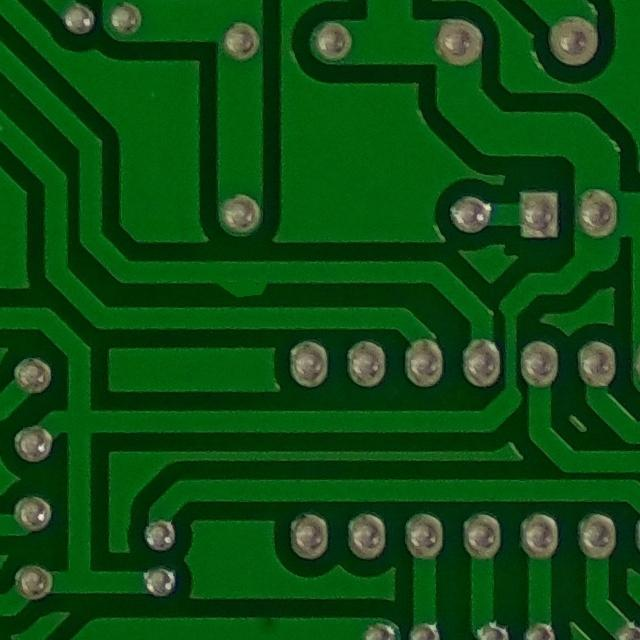spur: (208, 254, 286, 307)
